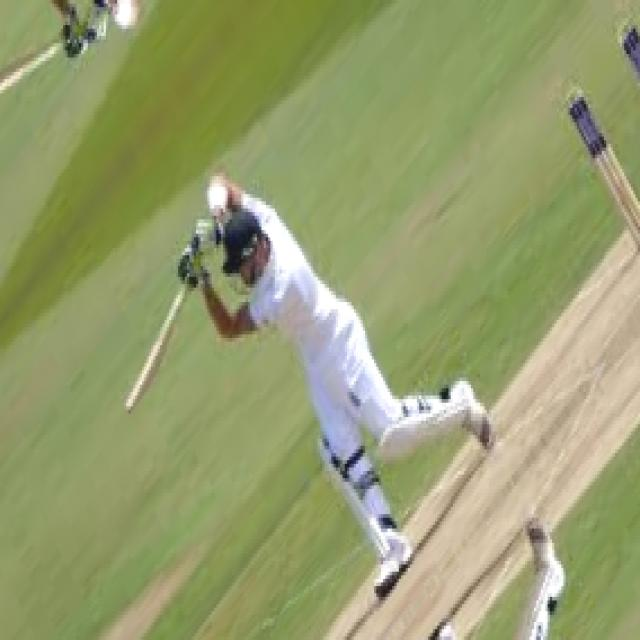toe: (121, 391, 141, 423)
